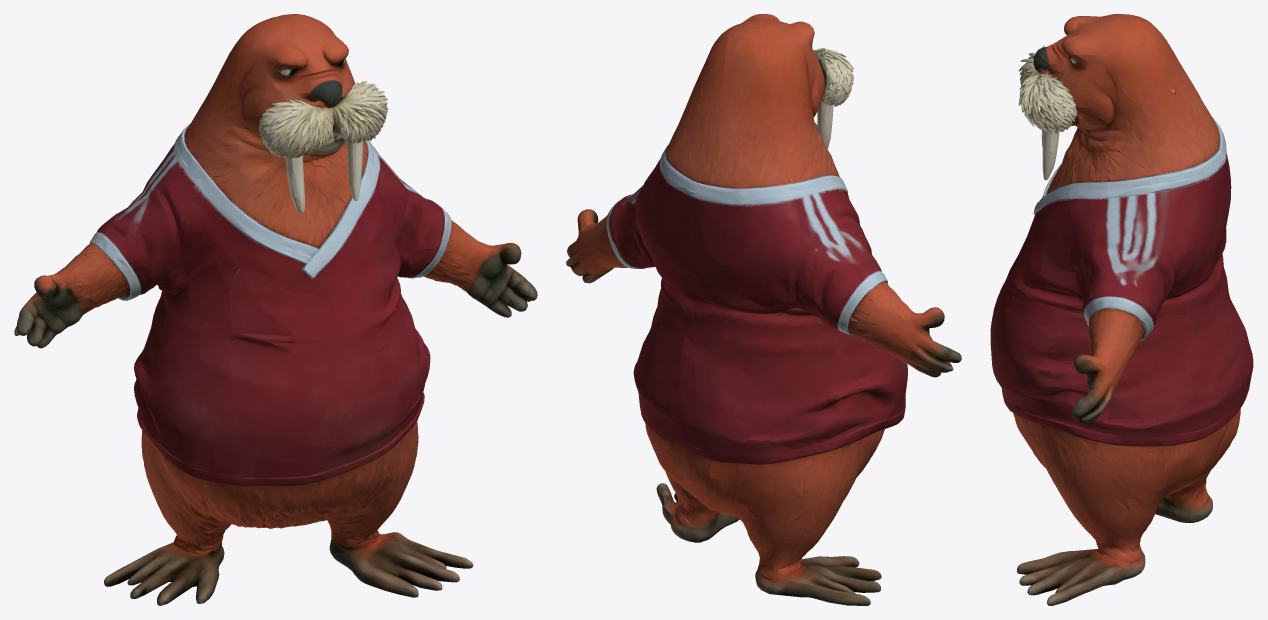
Rendered from walruses_30k.glb.
3 renders of one model, left to right at view 1: azimuth 30°, elevation 25°; view 2: azimuth 150°, elevation 25°; view 3: azimuth 270°, elevation 25°, orthographic. The views are drawn at different scales.
Parts seen in each view (by area): view 1: output_unwrapped; view 2: output_unwrapped; view 3: output_unwrapped.
Part boxes in pixels (box(x1,y1,x2,y2)): output_unwrapped: box(14, 14, 537, 605); output_unwrapped: box(566, 14, 961, 605); output_unwrapped: box(990, 14, 1253, 605).
Size of the model in its own units: 1.68 by 1.9 by 0.8719.
Materials: 1 (1 with a texture image).
